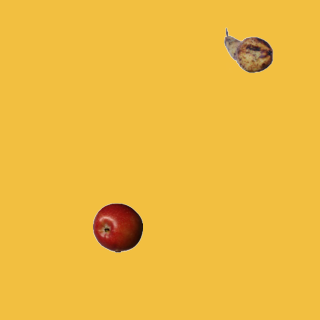Apple Braeburn: (92, 202, 142, 252)
Pear Abate: (223, 25, 273, 75)
